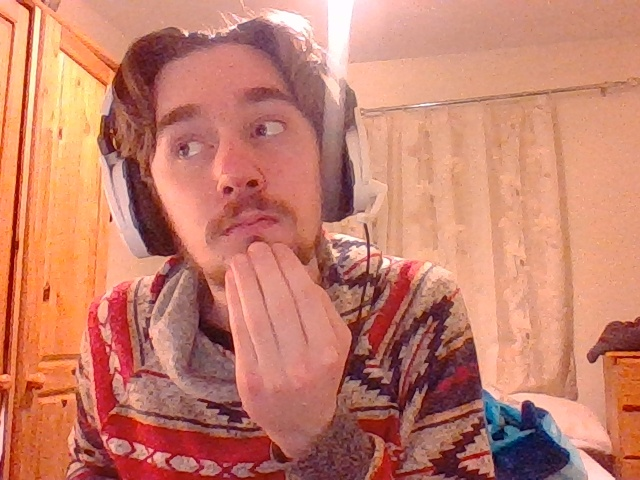thanks: (224, 242, 353, 435)
